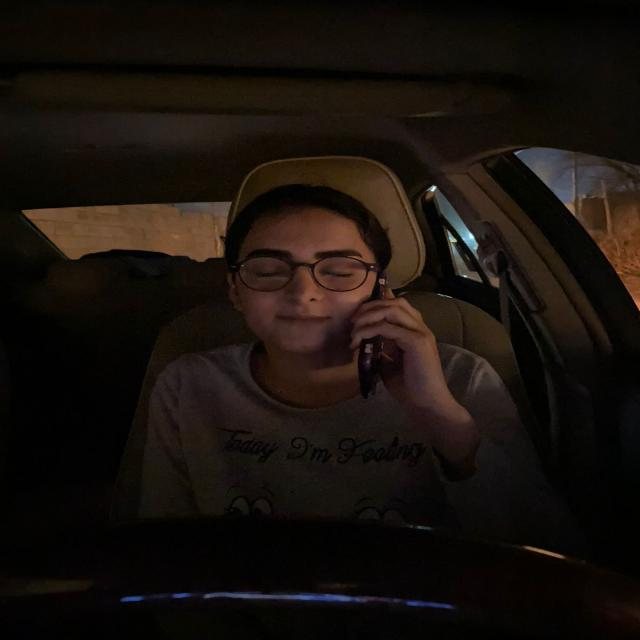mobile: (347, 337, 389, 404)
person: (219, 176, 405, 363)
